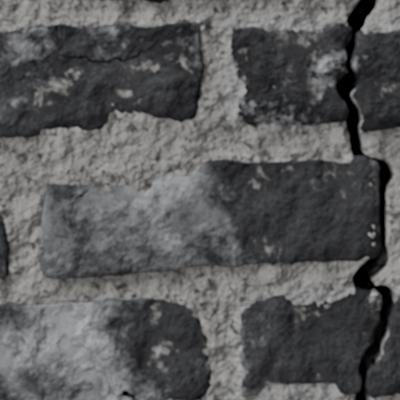brick: (38, 158, 377, 277), (0, 23, 202, 136), (0, 299, 210, 399), (0, 217, 8, 275), (148, 0, 163, 2)
broken_brick: (239, 290, 380, 397), (230, 22, 348, 126), (352, 29, 399, 132), (369, 294, 399, 398)
crack: (335, 0, 398, 399), (119, 389, 139, 399), (196, 393, 203, 399)
